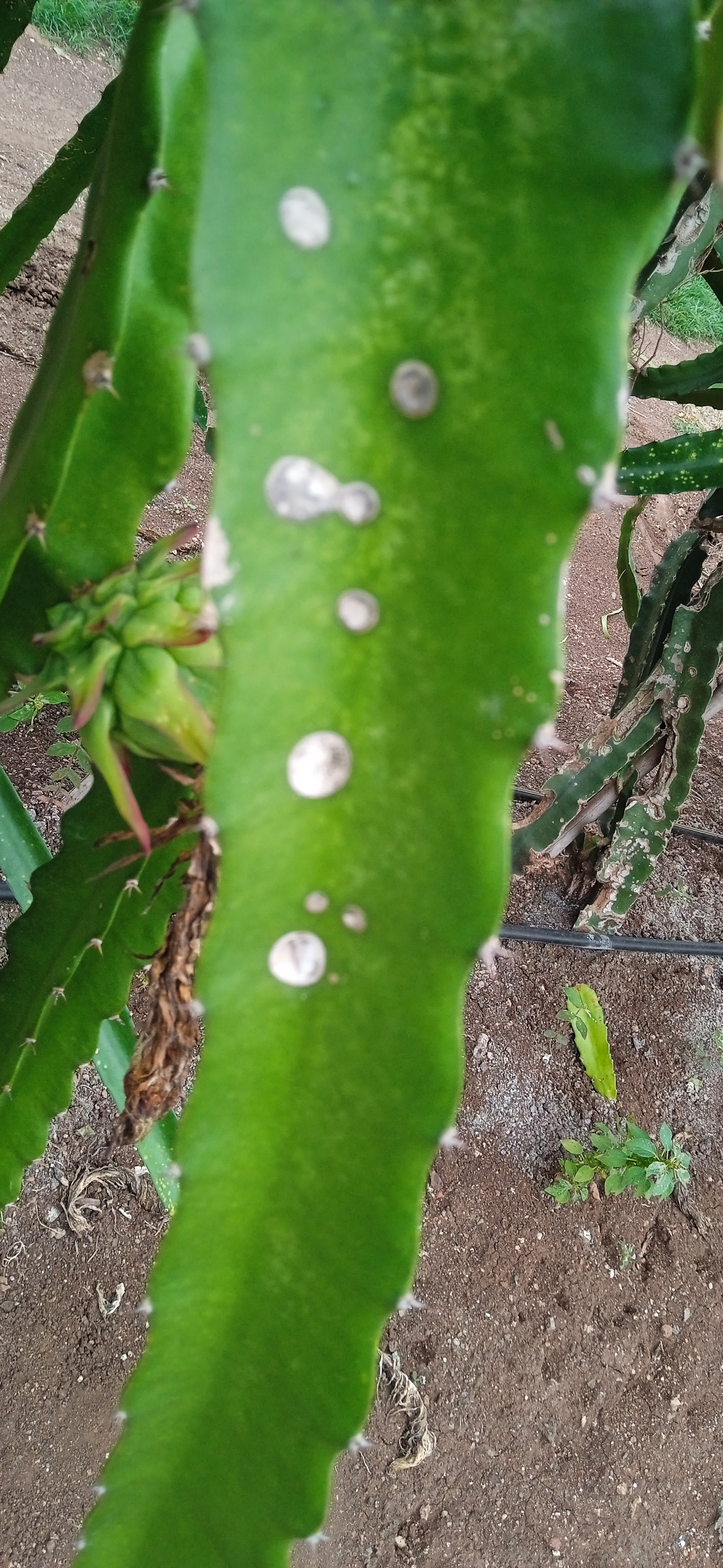stemcanker: (253, 178, 444, 1011)
